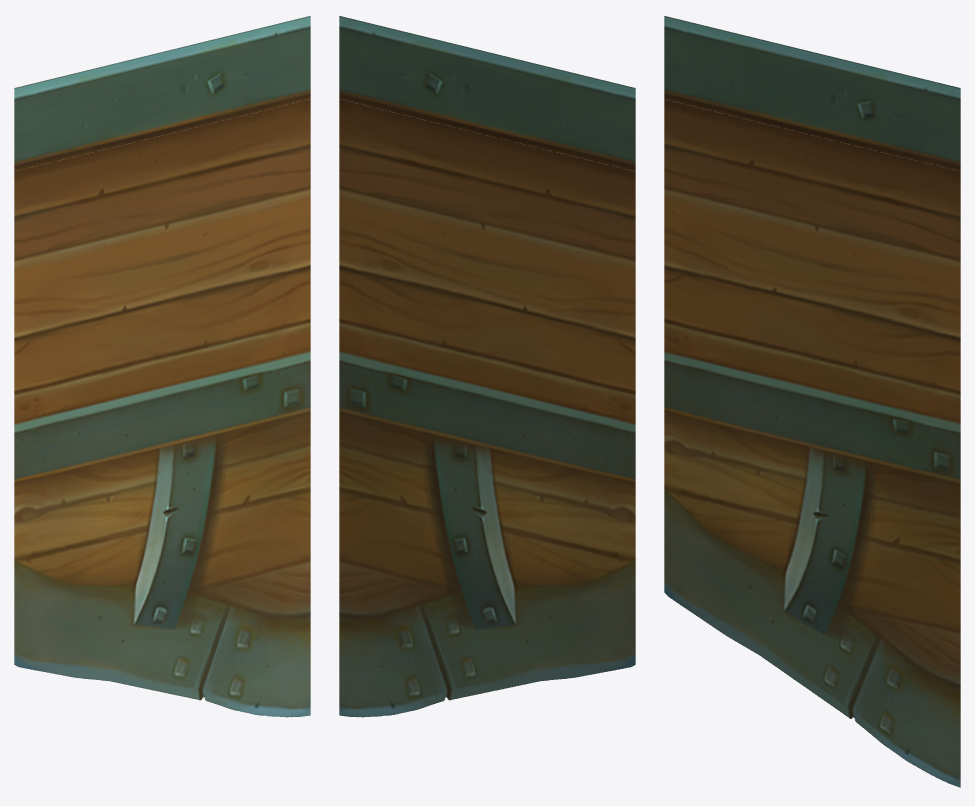
File: 100102@skin.FBX
3 views of the same model, side by side, from view 1: azimuth 30°, elevation 25°; view 2: azimuth 150°, elevation 25°; view 3: azimuth 330°, elevation 25° (orthographic).
Visible parts, largest first — view 1: body; view 2: body; view 3: body.
Part boxes in pixels (box(x1,y1,x2,y2)): body: box(14, 16, 310, 717); body: box(339, 16, 635, 717); body: box(664, 16, 960, 787).
Size of the model in its own units: 30 by 68.27 by 1.53e-05.
1 material, 1 textured.
